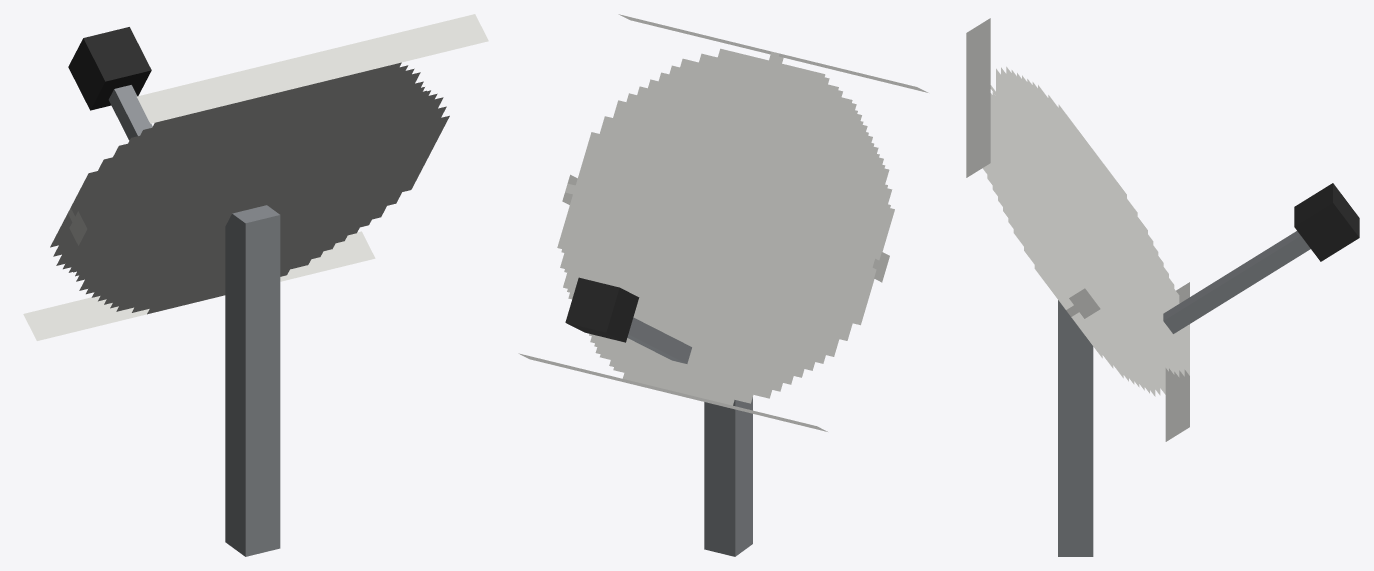
The model's file is f_small_satellite_dish.glb.
The picture shows the model from 3 angles, left to right: view 1: azimuth 30°, elevation 25°; view 2: azimuth 150°, elevation 25°; view 3: azimuth 270°, elevation 25°; orthographic projection. The views are drawn at different scales.
Visible parts, largest first — view 1: block_dish, block_mast, block_lnb, block_arm; view 2: block_dish, block_mast, block_lnb, block_arm; view 3: block_dish, block_mast, block_arm, block_lnb.
Boxes of the visible parts, bbox=[...] form: block_dish: bbox=[23, 14, 488, 340]; block_mast: bbox=[225, 205, 280, 556]; block_lnb: bbox=[68, 27, 151, 110]; block_arm: bbox=[108, 85, 152, 140]; block_dish: bbox=[518, 14, 928, 431]; block_mast: bbox=[704, 397, 752, 556]; block_lnb: bbox=[565, 277, 639, 342]; block_arm: bbox=[627, 317, 691, 363]; block_dish: bbox=[966, 18, 1189, 441]; block_mast: bbox=[1058, 300, 1093, 556]; block_arm: bbox=[1163, 231, 1310, 333]; block_lnb: bbox=[1294, 183, 1359, 261].
Size of the model in its own units: 0.6 by 0.8645 by 0.6685.
Materials: 3 (3 with a texture image).
